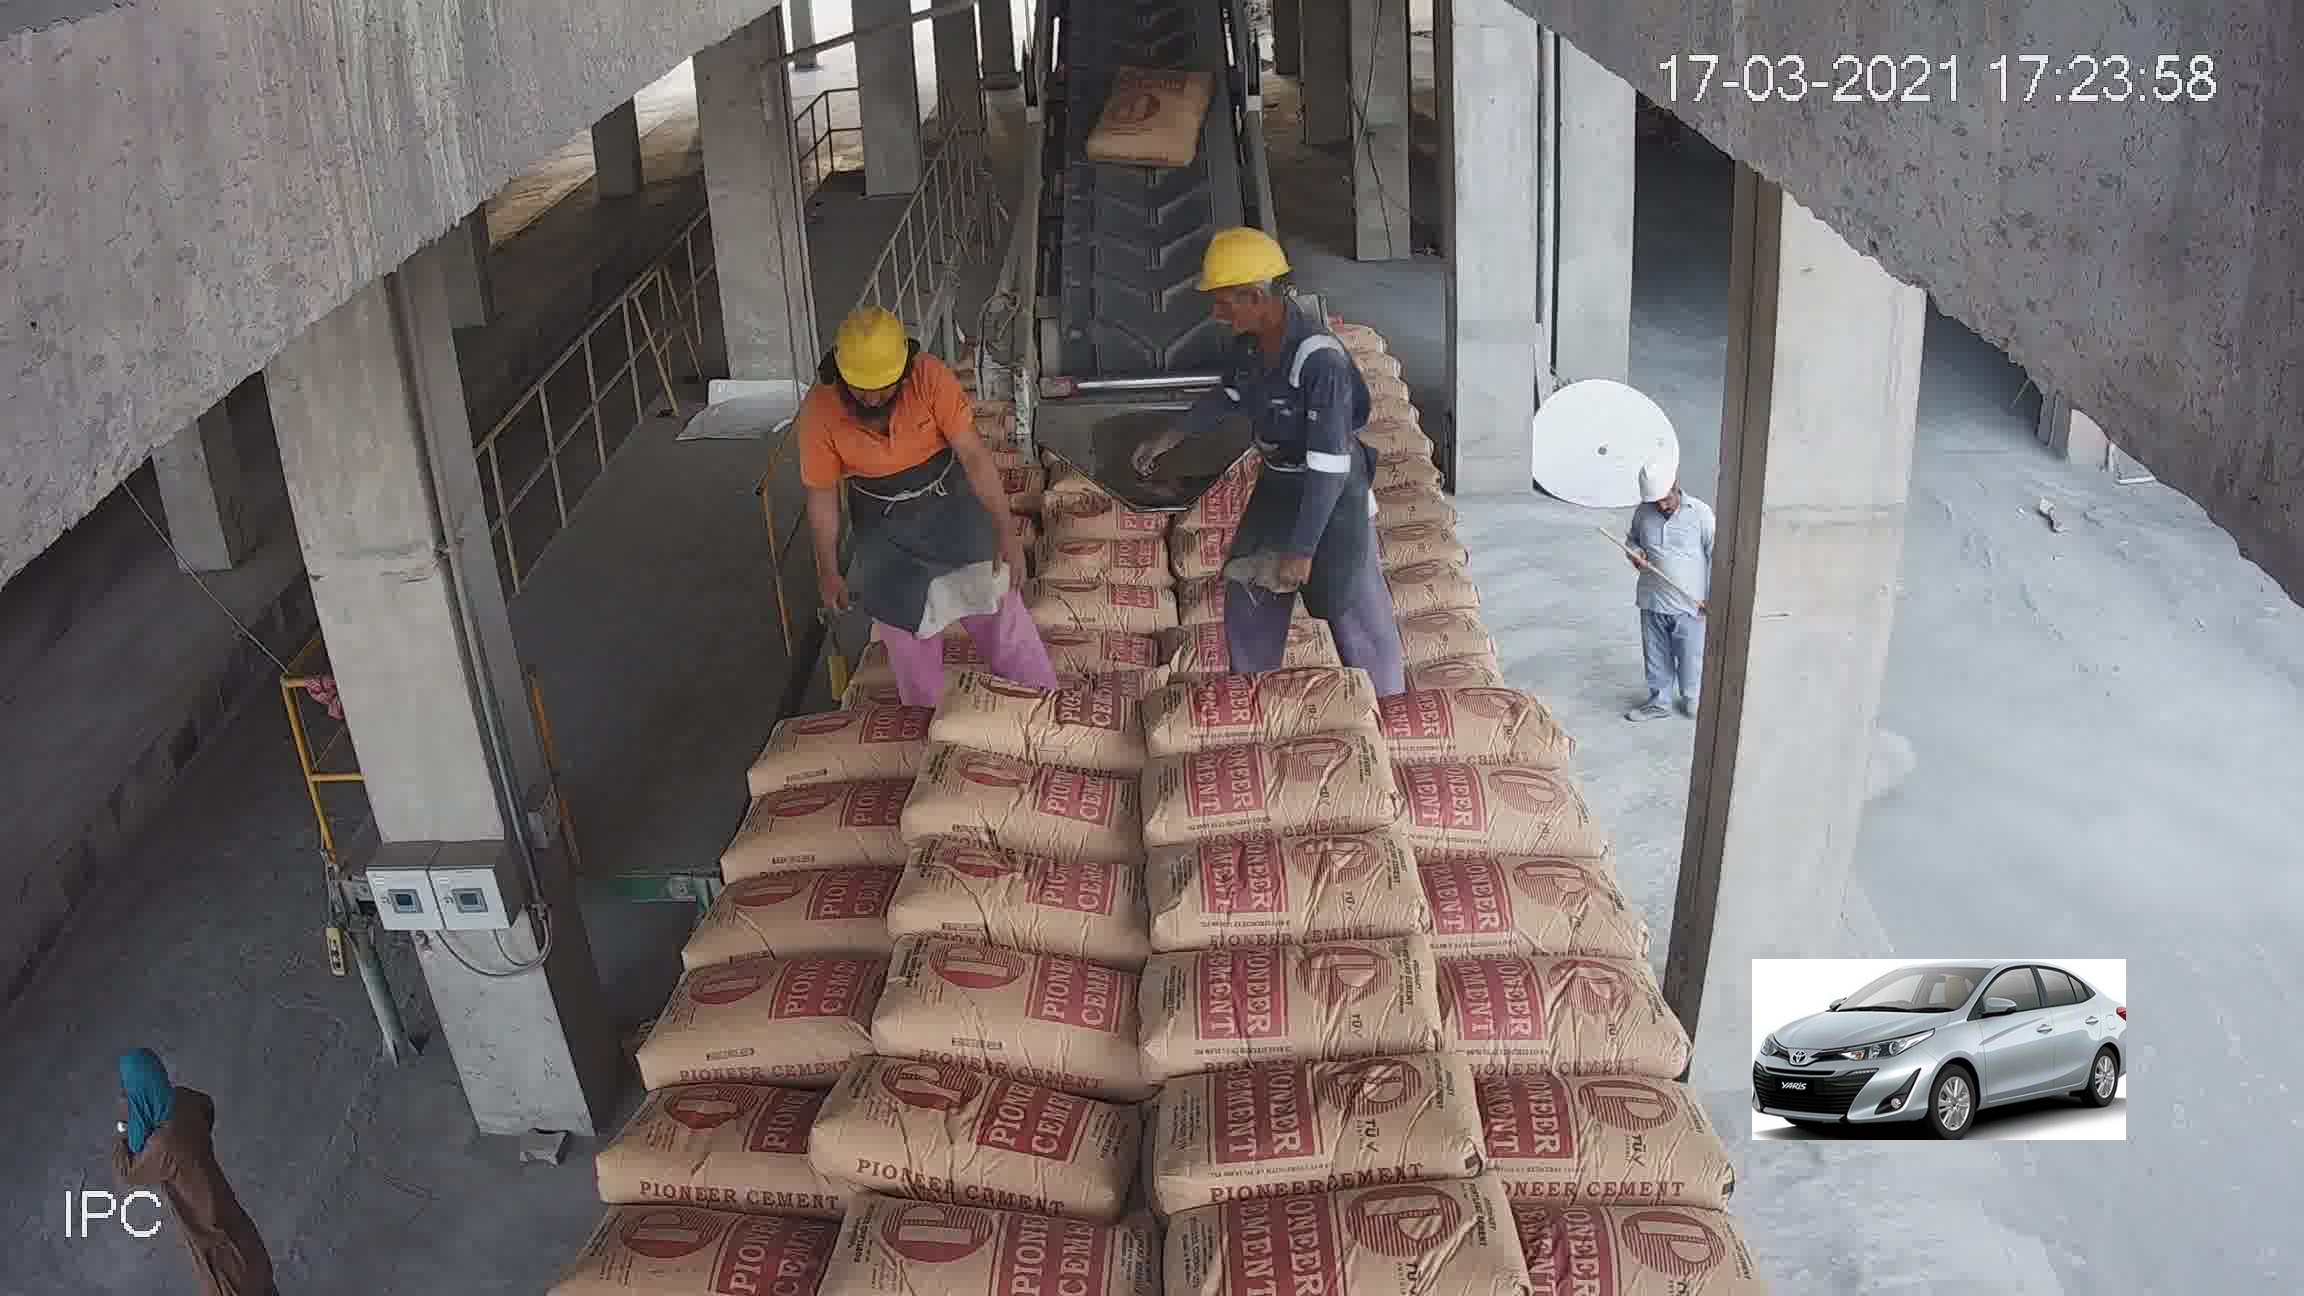bag: (916, 385, 1073, 472)
bag_h: (1105, 1051, 1483, 1201), (790, 1070, 1143, 1206), (1155, 1177, 1521, 1296), (831, 957, 1150, 1090), (1152, 932, 1456, 1063), (1446, 927, 1669, 1082), (1131, 824, 1419, 937), (616, 965, 889, 1081), (1446, 1079, 1711, 1193), (1130, 729, 1408, 832), (815, 1204, 1143, 1291), (668, 862, 915, 975), (1418, 831, 1630, 956), (722, 763, 926, 888), (554, 1209, 828, 1296), (1388, 763, 1601, 872), (606, 1093, 809, 1206), (1176, 589, 1393, 692), (1369, 671, 1579, 775), (1483, 1220, 1777, 1294), (892, 848, 1139, 934), (916, 677, 1157, 758), (1158, 674, 1380, 756), (915, 764, 1150, 840), (1166, 533, 1353, 623), (1377, 623, 1548, 718), (752, 693, 938, 775), (949, 617, 1188, 677), (1160, 479, 1343, 554), (957, 503, 1149, 568), (801, 642, 968, 712), (975, 560, 1143, 620), (824, 584, 972, 649), (840, 525, 961, 598), (1355, 516, 1497, 570), (1381, 571, 1506, 631), (1305, 415, 1431, 472), (1320, 438, 1445, 495), (1059, 438, 1161, 502), (1304, 366, 1416, 421), (1353, 475, 1457, 529), (1293, 342, 1408, 389), (1310, 392, 1429, 438), (1298, 320, 1388, 358), (1067, 399, 1152, 438)
belt: (1044, 14, 1260, 286)
